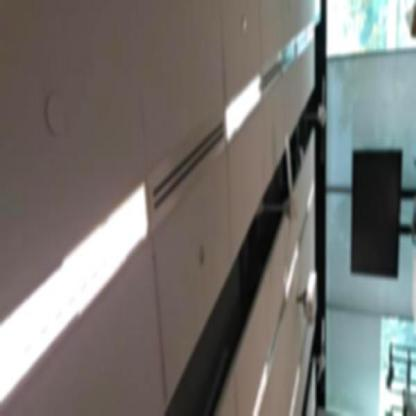light_on: (0, 175, 152, 415), (216, 60, 272, 147), (246, 360, 274, 414), (280, 240, 303, 302), (287, 362, 307, 415), (304, 172, 321, 215)
